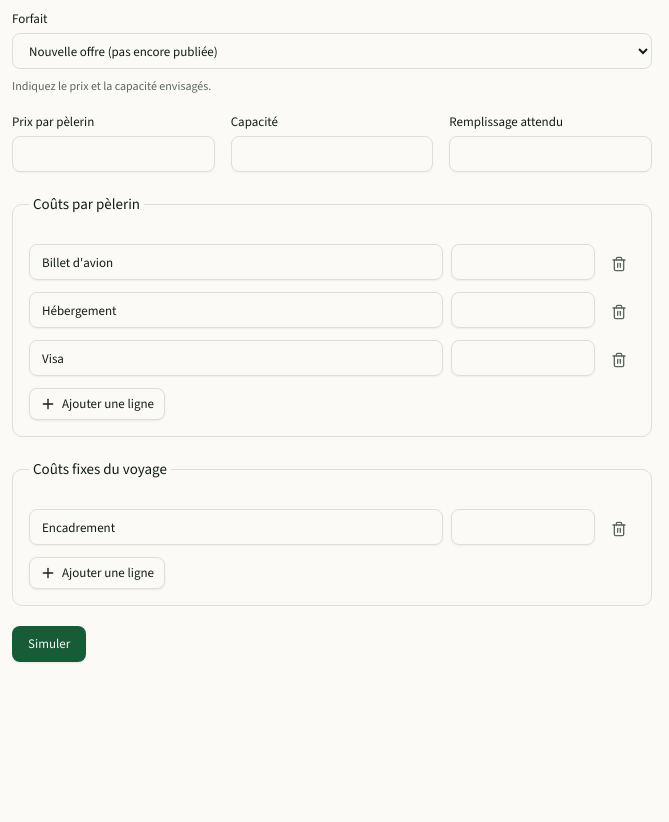
Test: ProfitabilitySimulator (idée #48) › exige prix et capacité pour une nouvelle offre
Click the button "Simuler": click(49, 644) [12,626,86,662]
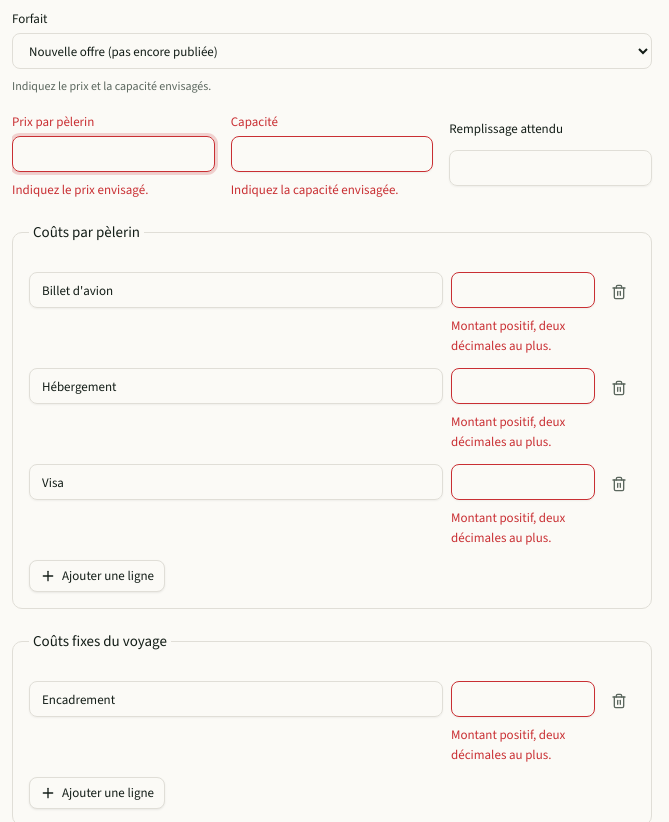
Expected: the text "Indiquez le prix envisagé." is shown, [12,181,148,198]
